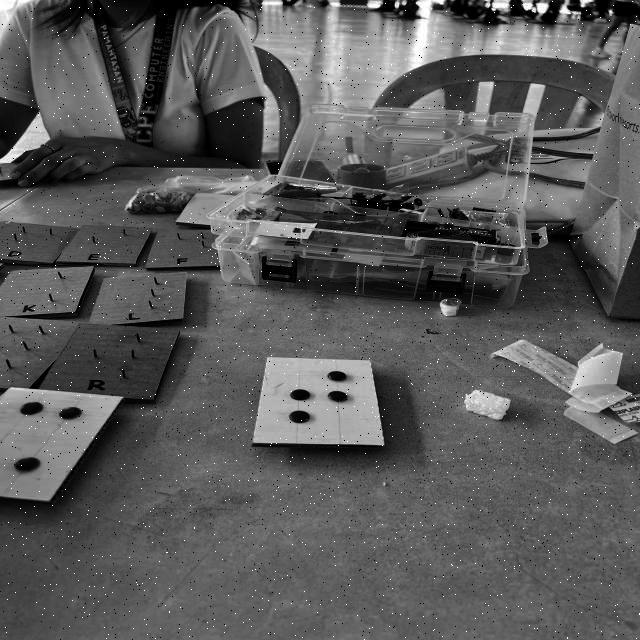T: (254, 357, 382, 444)
